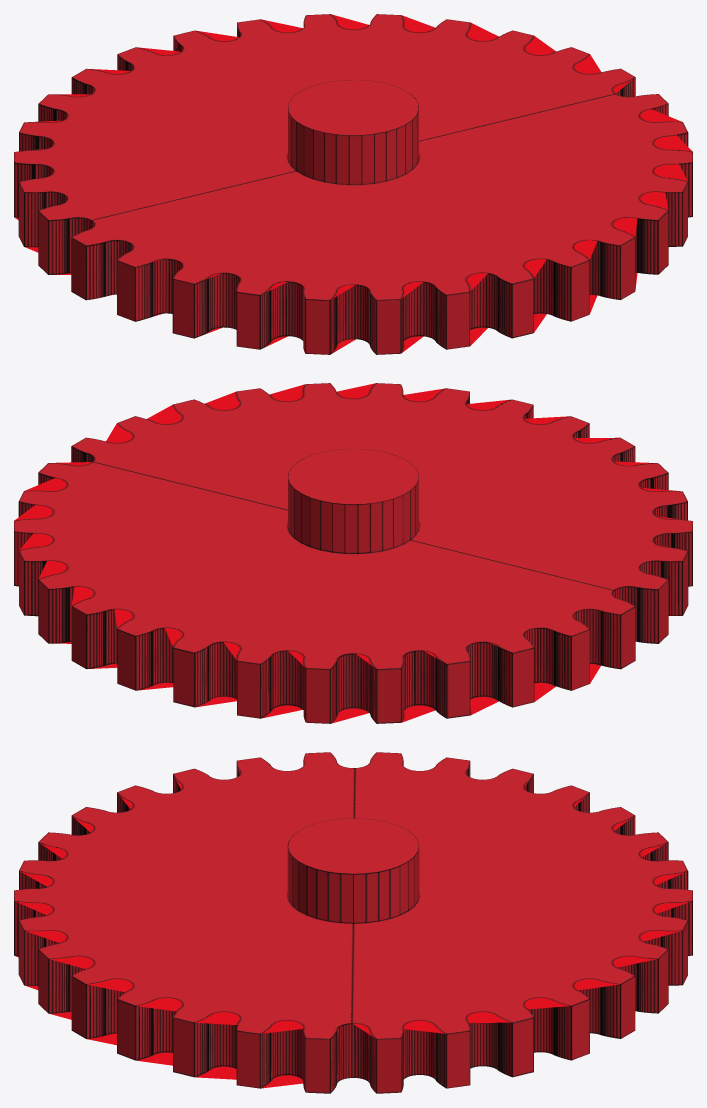
Rendered from gear.fbx.
The picture shows the model from 3 angles, top to bottom: view 1: azimuth 30°, elevation 25°; view 2: azimuth 150°, elevation 25°; view 3: azimuth 270°, elevation 25°; orthographic projection.
Parts seen in each view (by area): view 1: m1_z30_x0; view 2: m1_z30_x0; view 3: m1_z30_x0.
Part boxes in pixels (bbox=[...]): m1_z30_x0: bbox=[14, 14, 692, 354]; m1_z30_x0: bbox=[14, 383, 692, 723]; m1_z30_x0: bbox=[14, 752, 692, 1093].
Bounding box in the file's own units: 100 × 25 × 100.
